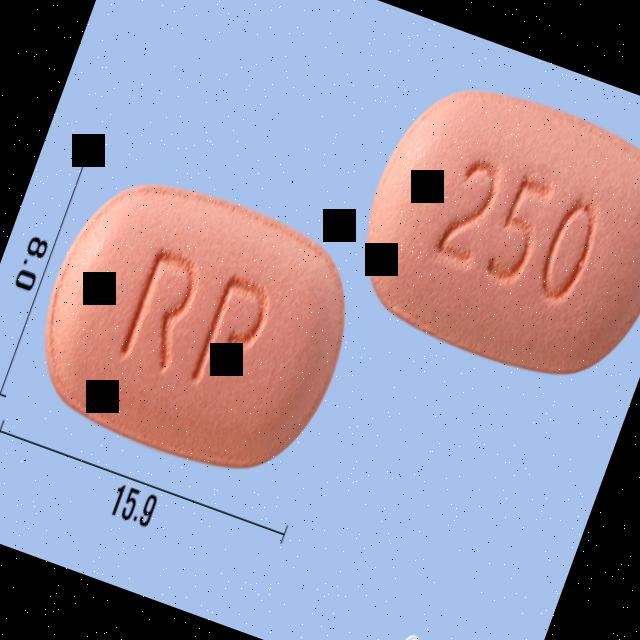Rp Levofloxacin Tab: (11, 154, 377, 500), (334, 62, 640, 403)
